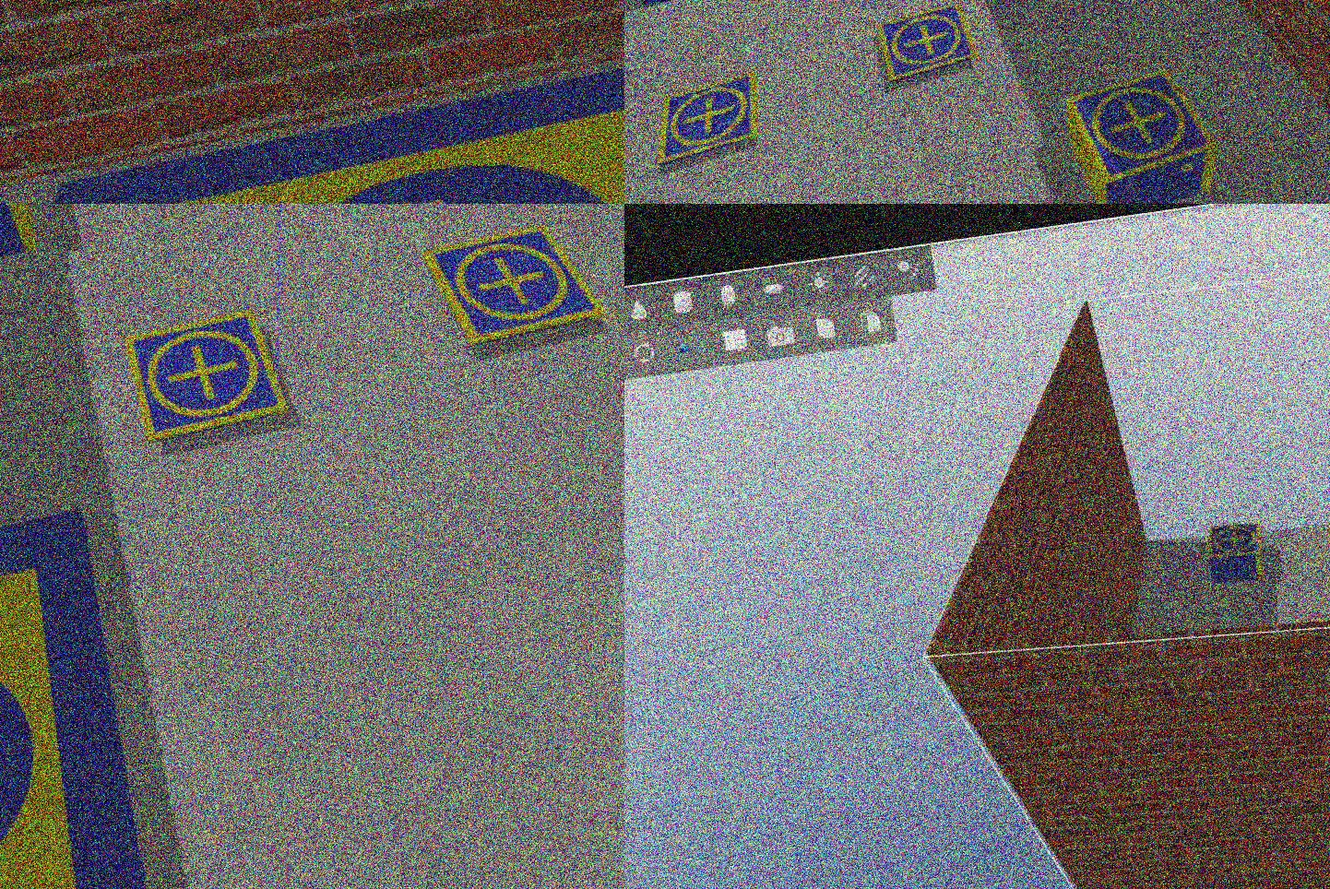large_base: (1, 1, 624, 205), (1, 505, 172, 889)
small_base: (419, 219, 612, 352), (122, 306, 291, 446), (1064, 64, 1223, 189), (647, 72, 766, 170), (871, 6, 980, 89), (1205, 516, 1267, 563)
